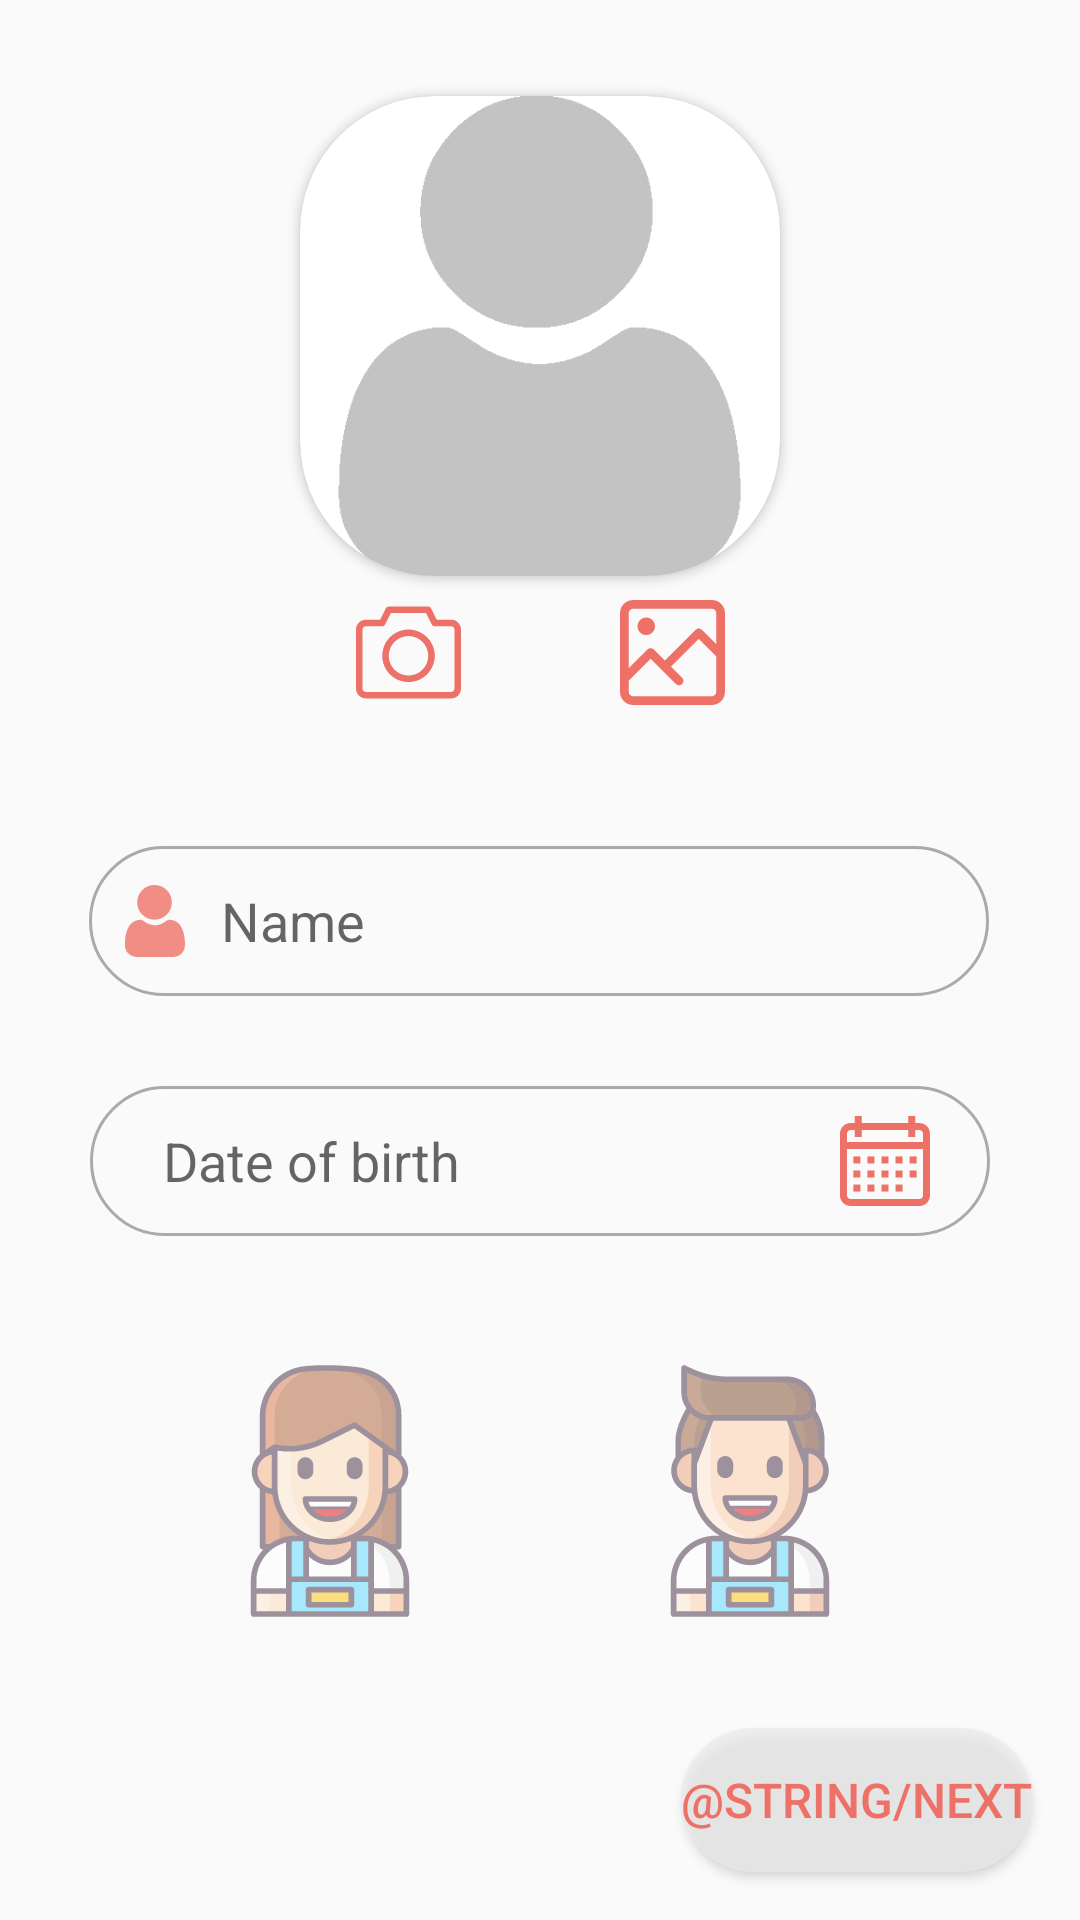

Icons on this 1080×1920 Android screen, each with the point to tap as point (x, y):
calendar: point (885, 1161)
camera: point (408, 652)
female: point (330, 1491)
gallery: point (672, 652)
male: point (750, 1491)
